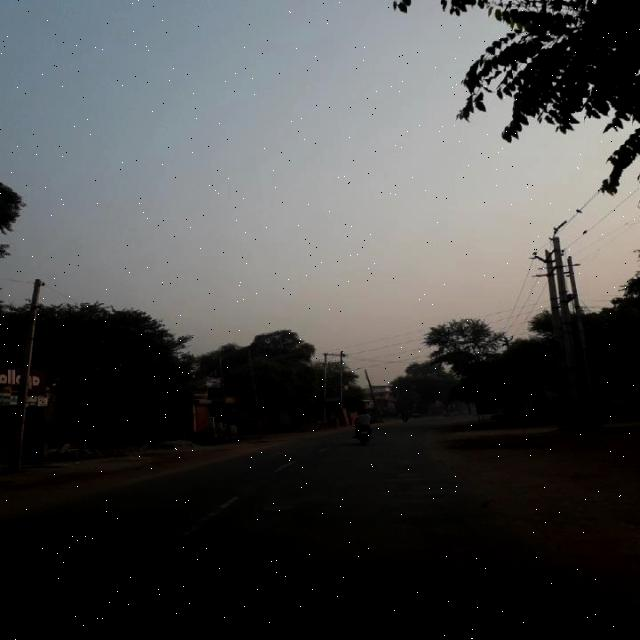D44: (180, 493, 249, 535)
